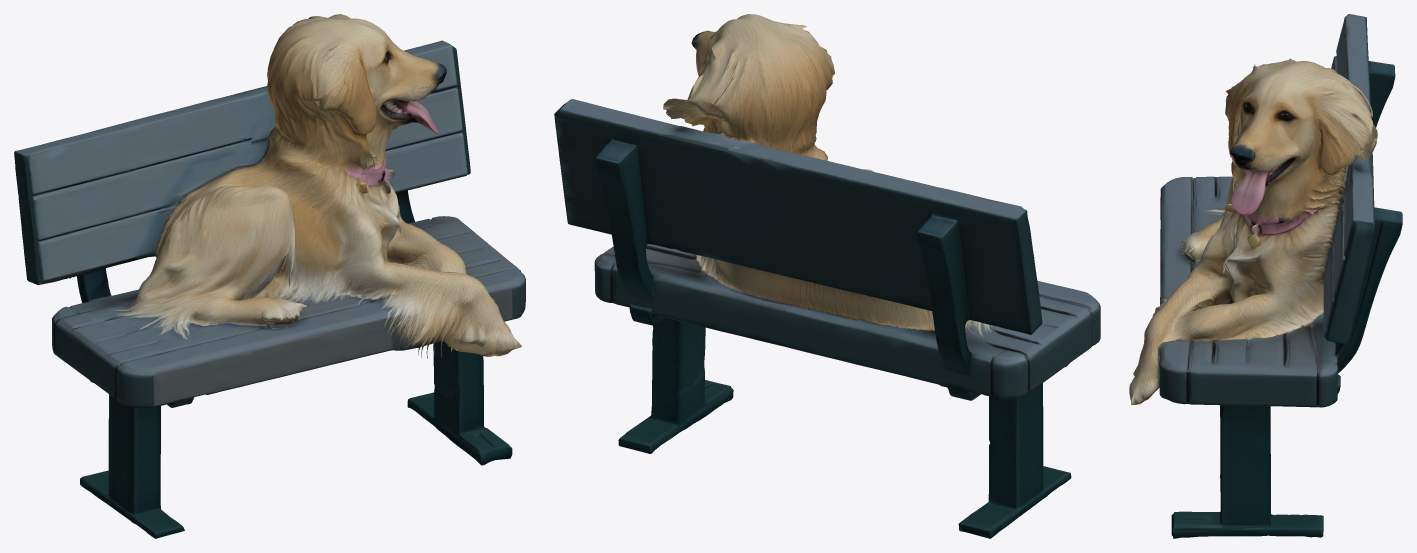
3 views of the same model, side by side, from view 1: azimuth 30°, elevation 25°; view 2: azimuth 150°, elevation 25°; view 3: azimuth 270°, elevation 25° (orthographic). The views are drawn at different scales.
Visible parts, largest first — view 1: tripo_node_55cc5199-a38f-4ea2-82a9-2c85b84add25; view 2: tripo_node_55cc5199-a38f-4ea2-82a9-2c85b84add25; view 3: tripo_node_55cc5199-a38f-4ea2-82a9-2c85b84add25.
Part boxes in pixels (x1,y1,x2,y2): tripo_node_55cc5199-a38f-4ea2-82a9-2c85b84add25: (14,14,525,538); tripo_node_55cc5199-a38f-4ea2-82a9-2c85b84add25: (554,14,1100,538); tripo_node_55cc5199-a38f-4ea2-82a9-2c85b84add25: (1129,14,1402,538).
Size of the model in its own units: 0.9997 by 0.9194 by 0.546.
Materials: 1 (1 with a texture image).
